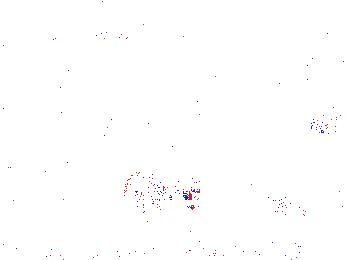flame jellyfish: (122, 169, 201, 225), (265, 169, 344, 222), (301, 49, 346, 136)
